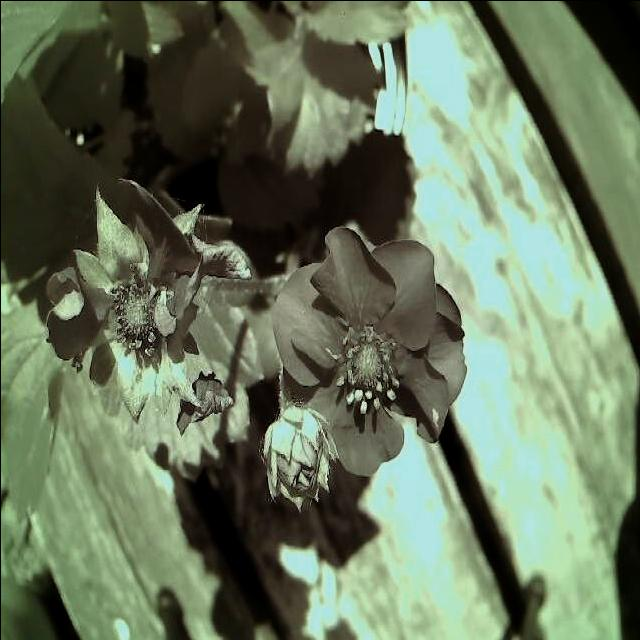flower: (268, 220, 472, 480)
